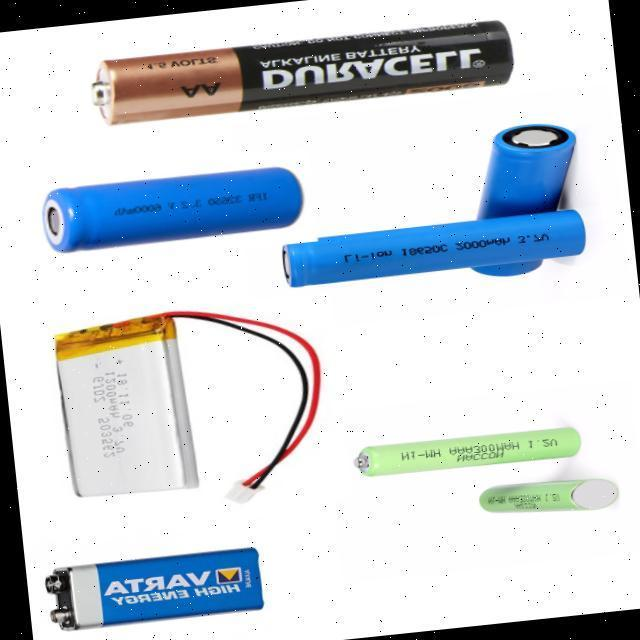9V: (44, 546, 264, 631)
AA: (91, 19, 514, 125)
